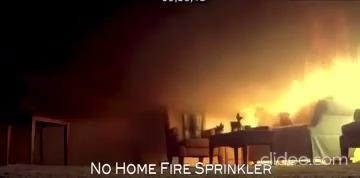fire: (225, 3, 360, 119)
